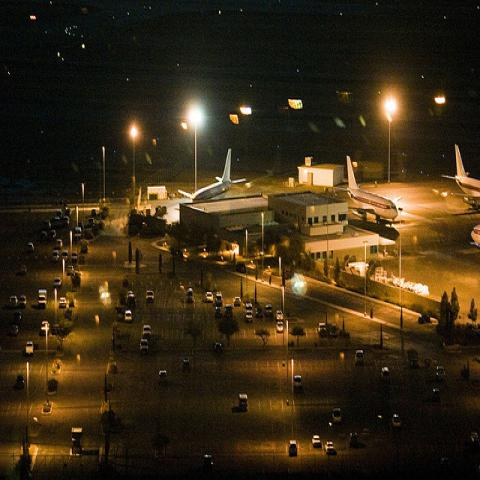car: (10, 212, 446, 426), (245, 302, 253, 322), (158, 370, 168, 384), (311, 434, 322, 446), (214, 292, 223, 306), (140, 339, 149, 352), (143, 325, 151, 338), (254, 307, 264, 317), (146, 290, 154, 302), (124, 310, 132, 322), (276, 322, 284, 333), (206, 292, 214, 302), (233, 297, 241, 306), (294, 375, 301, 381)
truck: (71, 427, 83, 457), (125, 289, 136, 306), (38, 289, 47, 308), (24, 340, 34, 356), (238, 394, 248, 410), (139, 338, 148, 354)
